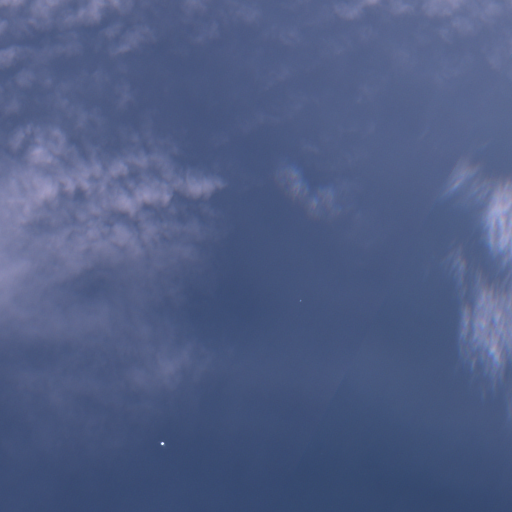Iceberg: (160, 442, 164, 445), (299, 300, 301, 301)
